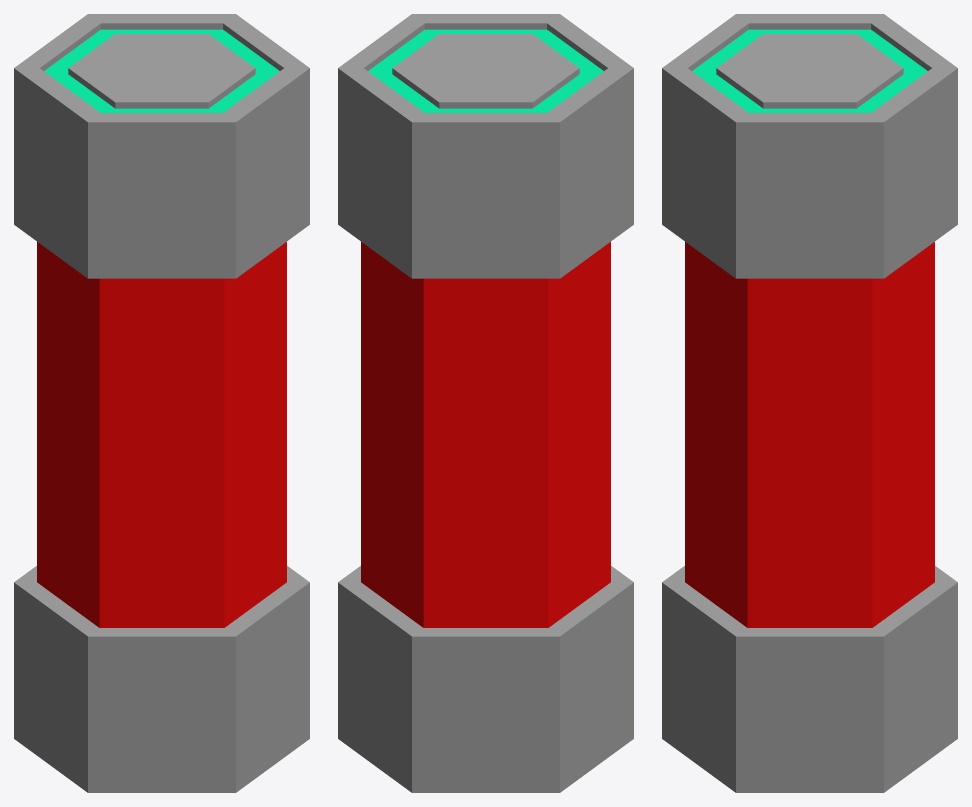
File: Uranium.fbx
The picture shows the model from 3 angles, left to right: view 1: azimuth 30°, elevation 25°; view 2: azimuth 150°, elevation 25°; view 3: azimuth 270°, elevation 25°; orthographic projection.
Visible parts, largest first — view 1: Uranium; view 2: Uranium; view 3: Uranium.
Boxes of the visible parts, left/top/right/bottom form: Uranium: left=14, top=14, right=309, bottom=792; Uranium: left=338, top=14, right=633, bottom=792; Uranium: left=662, top=14, right=957, bottom=792.
Bounding box in the file's own units: 34.64 × 100 × 40.
